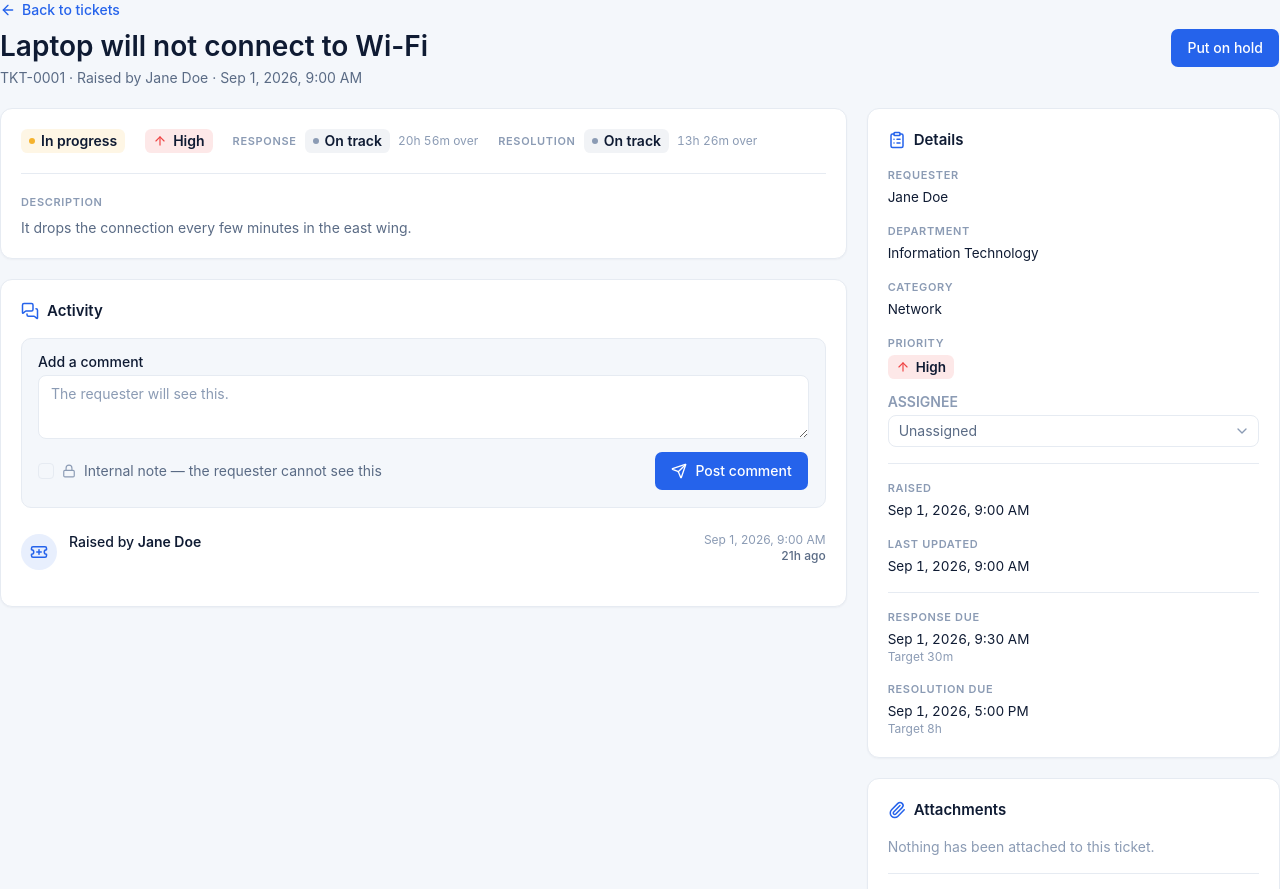
Test: TicketDetailPage — putting a ticket on hold › will not park a ticket without saying what it is waiting on
Click the button "Put on hold": (1225, 48) [1170,28,1279,68]
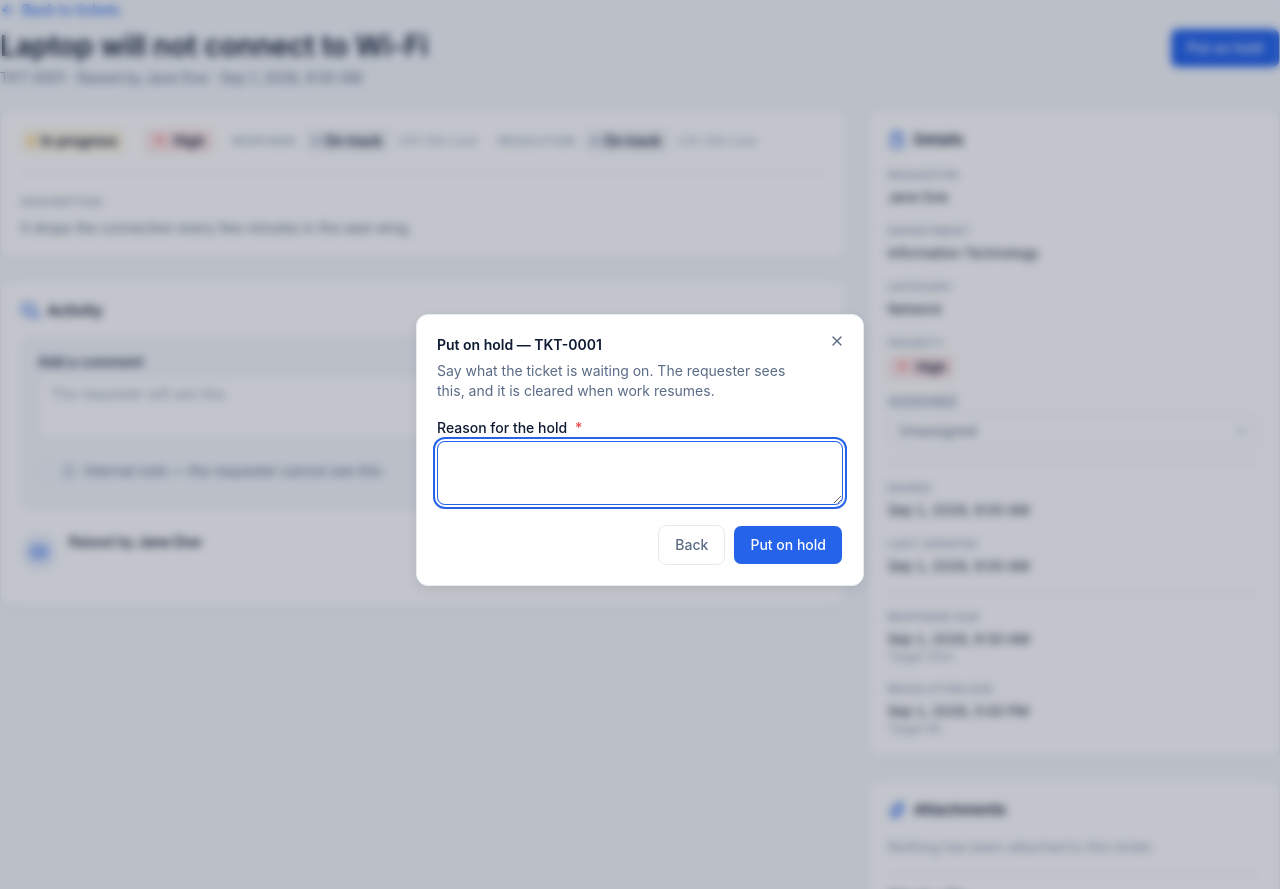
Click the button "Put on hold": (788, 545) [733,525,843,565]
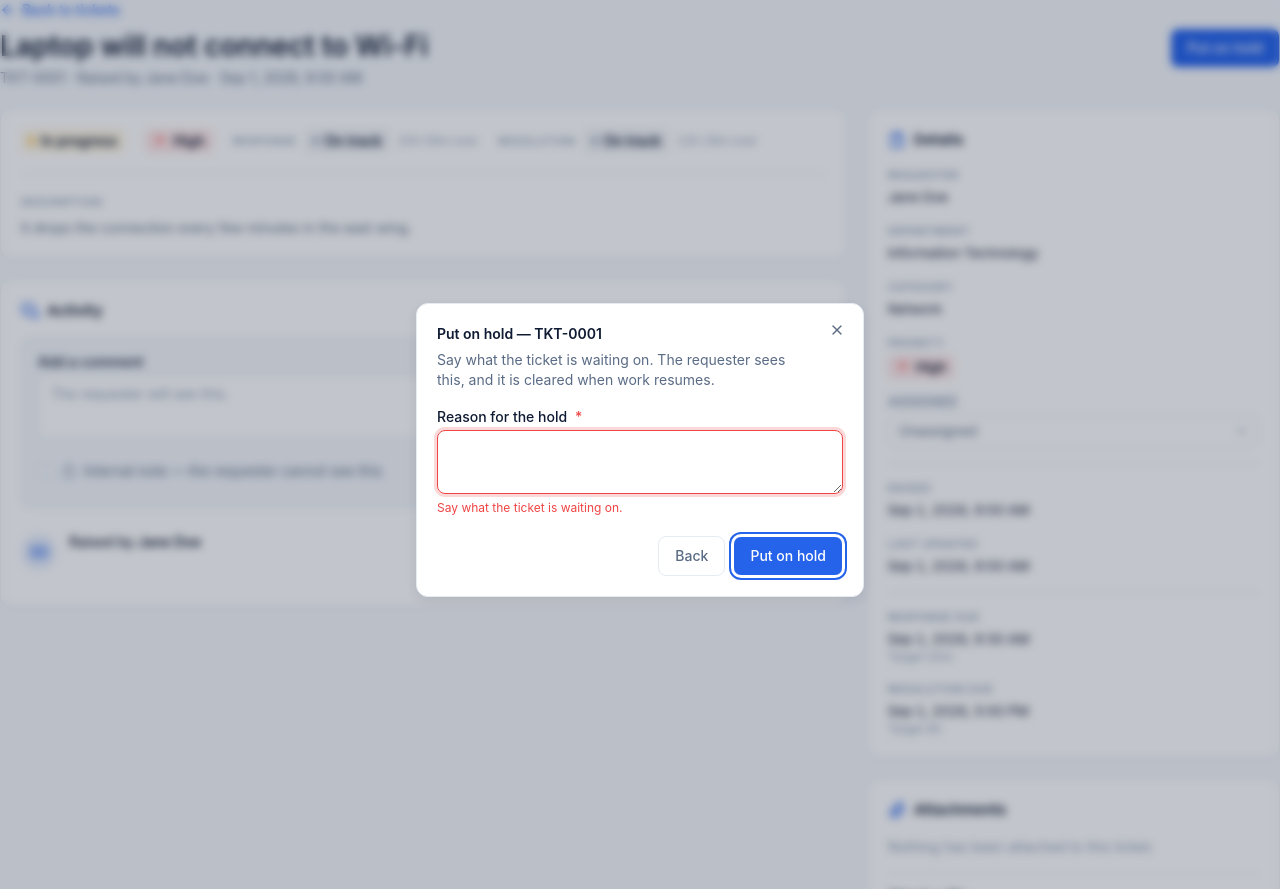
Check: the text "Say what the ticket is waiting on." is shown, box [437,500,622,515]
